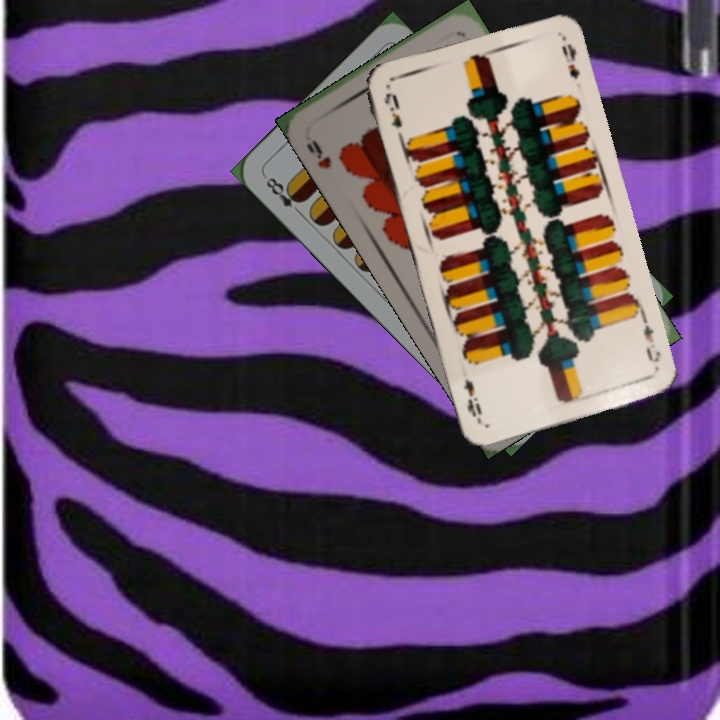E8: (262, 173, 306, 219)
E9: (380, 88, 406, 143), (638, 315, 663, 366)
H9: (302, 136, 334, 172)
